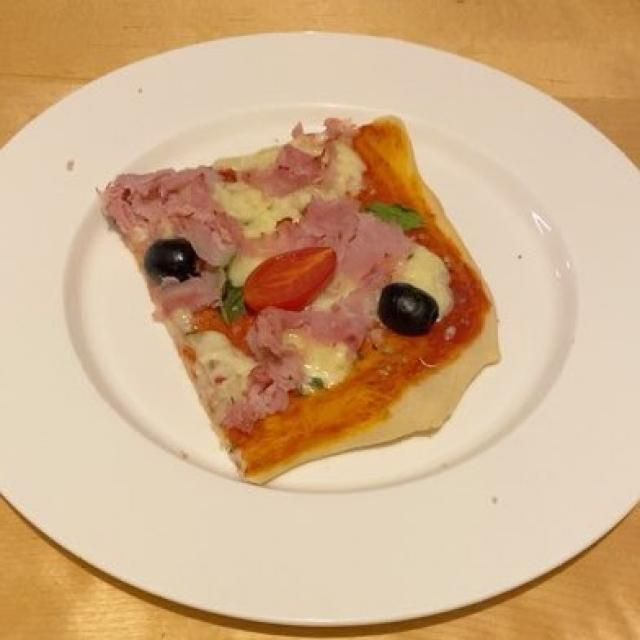pizza: (112, 122, 487, 462)
